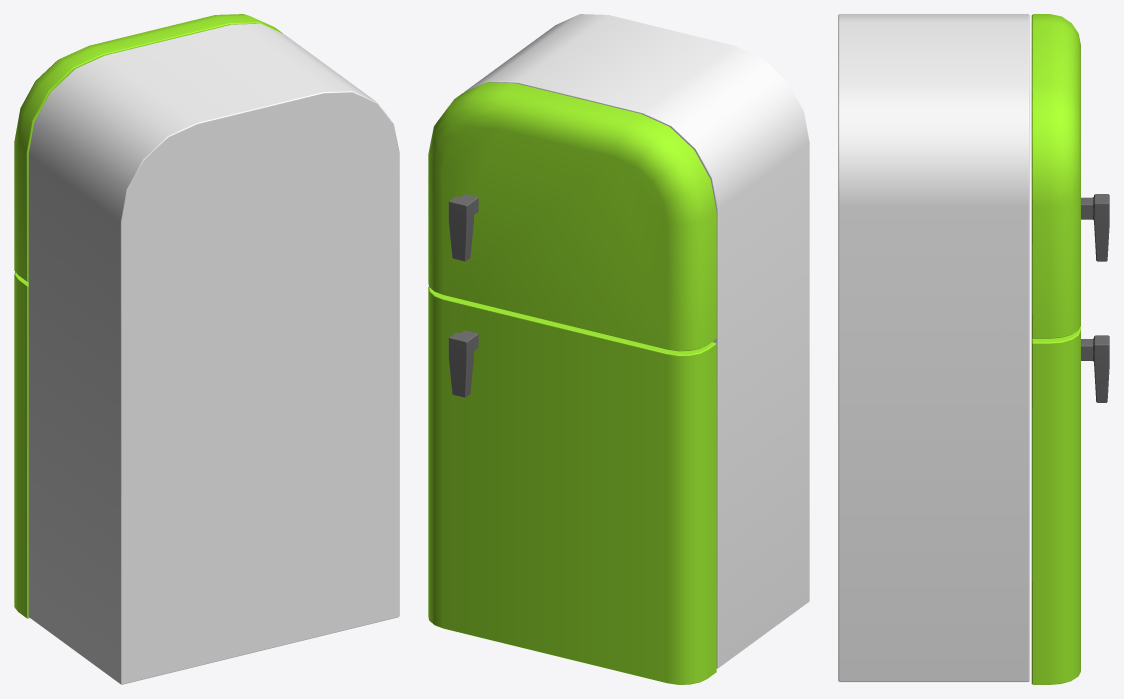
Rendered from kulkas.obj.
3 views of the same model, side by side, from view 1: azimuth 30°, elevation 25°; view 2: azimuth 150°, elevation 25°; view 3: azimuth 270°, elevation 25° (orthographic). The views are drawn at different scales.
Visible parts, largest first — view 1: Fridge_Cube.069; view 2: Fridge_Cube.069; view 3: Fridge_Cube.069.
Boxes of the visible parts, left/top/right/bottom form: Fridge_Cube.069: left=14, top=14, right=399, bottom=684; Fridge_Cube.069: left=428, top=14, right=809, bottom=684; Fridge_Cube.069: left=838, top=14, right=1109, bottom=684.
Size of the model in its own units: 2.19 by 4.09 by 1.79.
